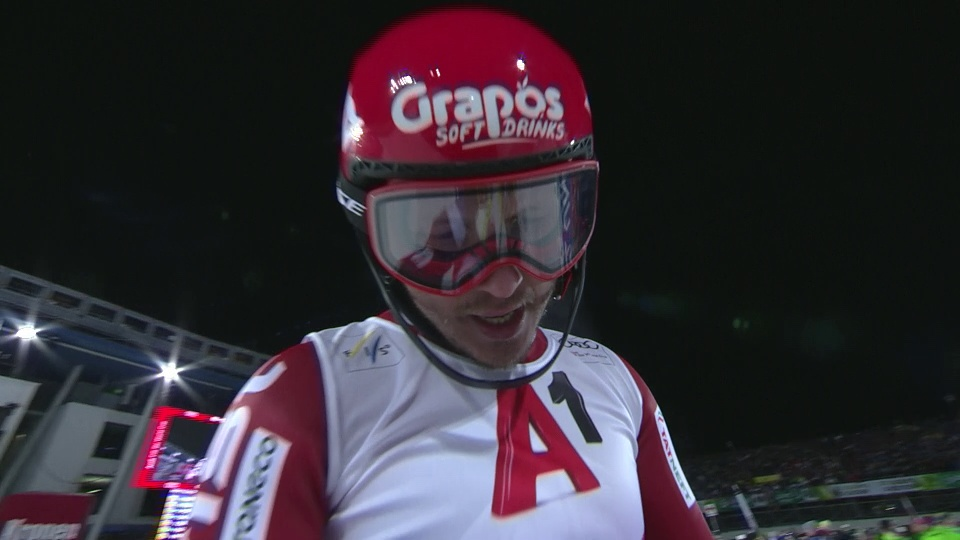a1: (490, 373, 613, 513)
